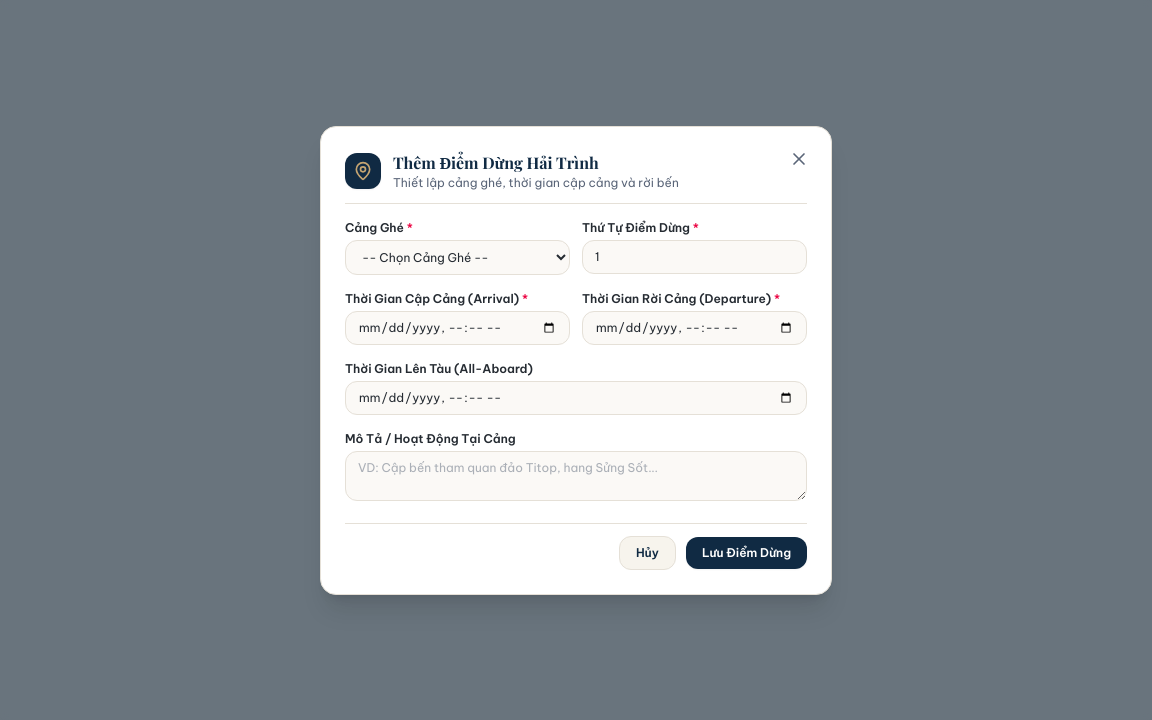
Test: Port and Stop Forms Component Tests (KAN-112) › shows validation errors when required fields are empty on submit
The width and height of the screenshot is (1152, 720).
Step 1. Click the button "Lưu Điểm Dừng" → (746, 552), box [686,536,807,568]
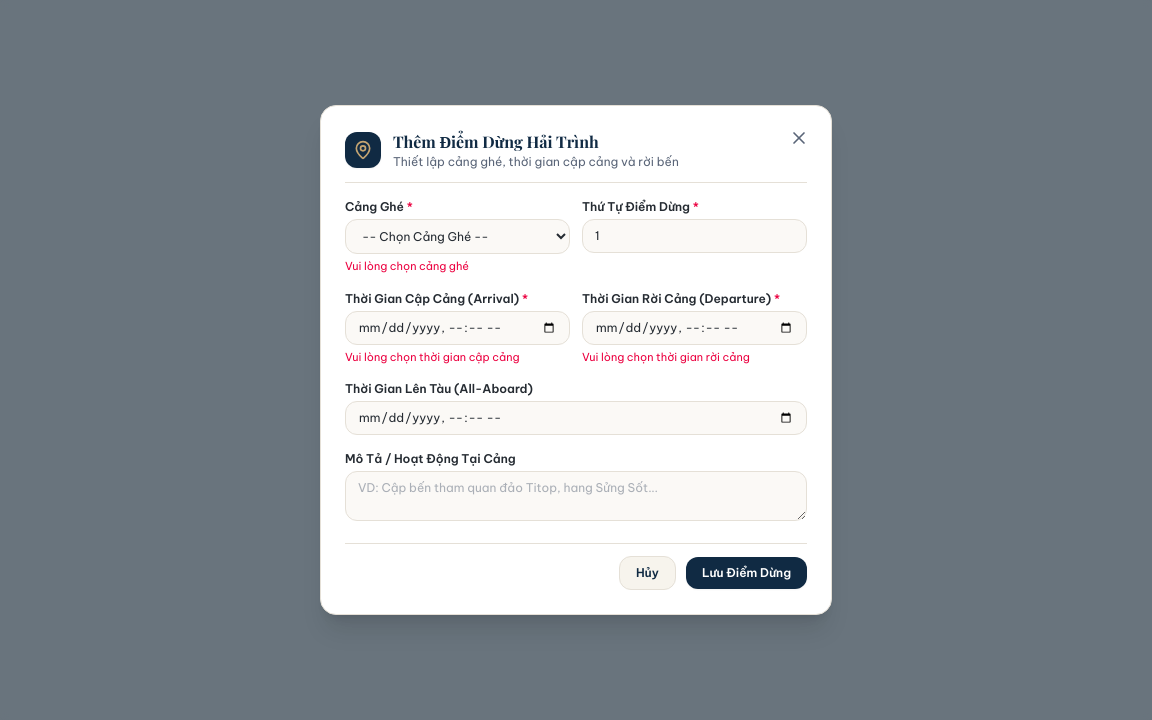
expect the text "Vui lòng chọn cảng ghé" is shown: met, box [345,259,469,273]
expect the text "Vui lòng chọn thời gian cập cảng" is shown: met, box [345,350,520,364]
expect the text "Vui lòng chọn thời gian rời cảng" is shown: met, box [582,350,750,364]
